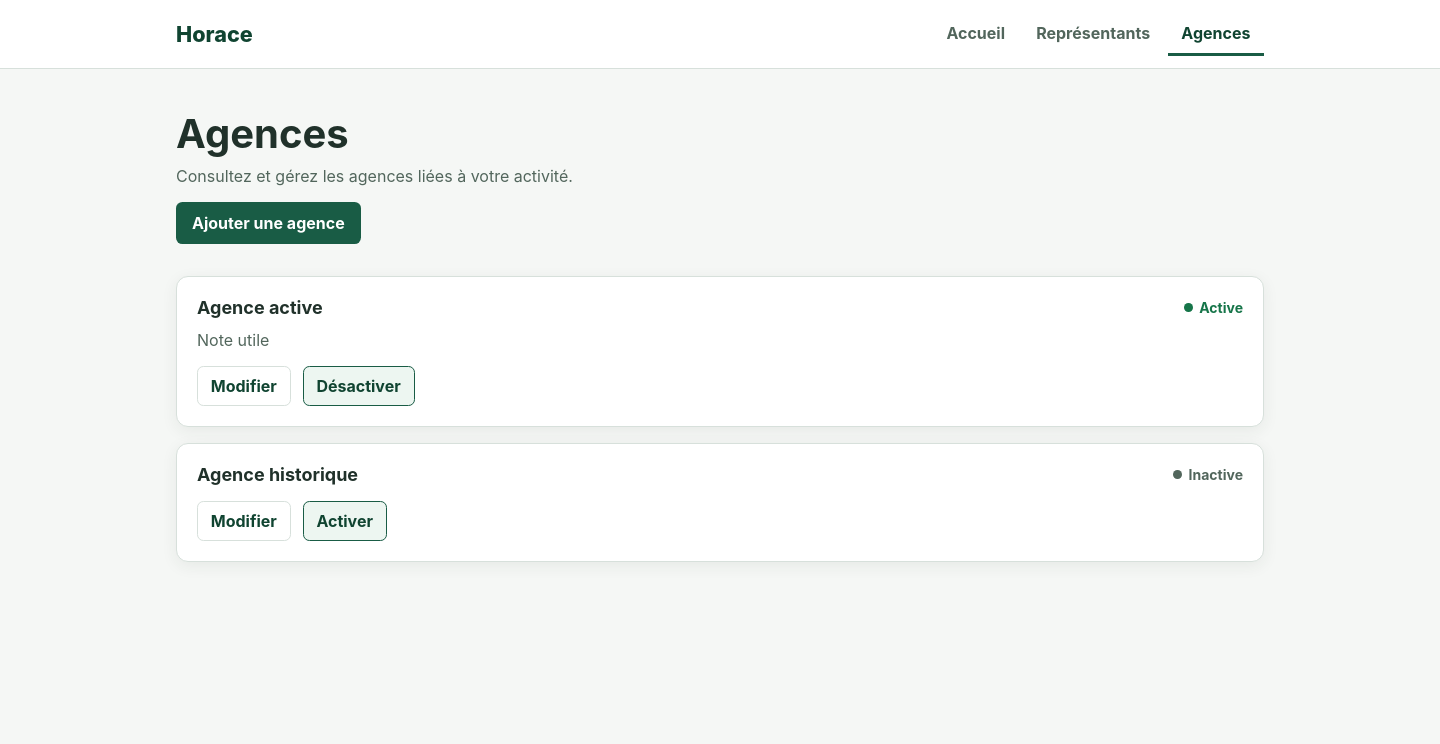
Test: page agences › affiche une erreur métier pendant la modification
This screenshot has width=1440, height=744.
Expected: the heading "Agence active" is shown, top-left (197, 297), bottom-right (323, 318)
Click the button "Modifier" below "Agence active" at (244, 386), box top-left (197, 366), bottom-right (291, 406)
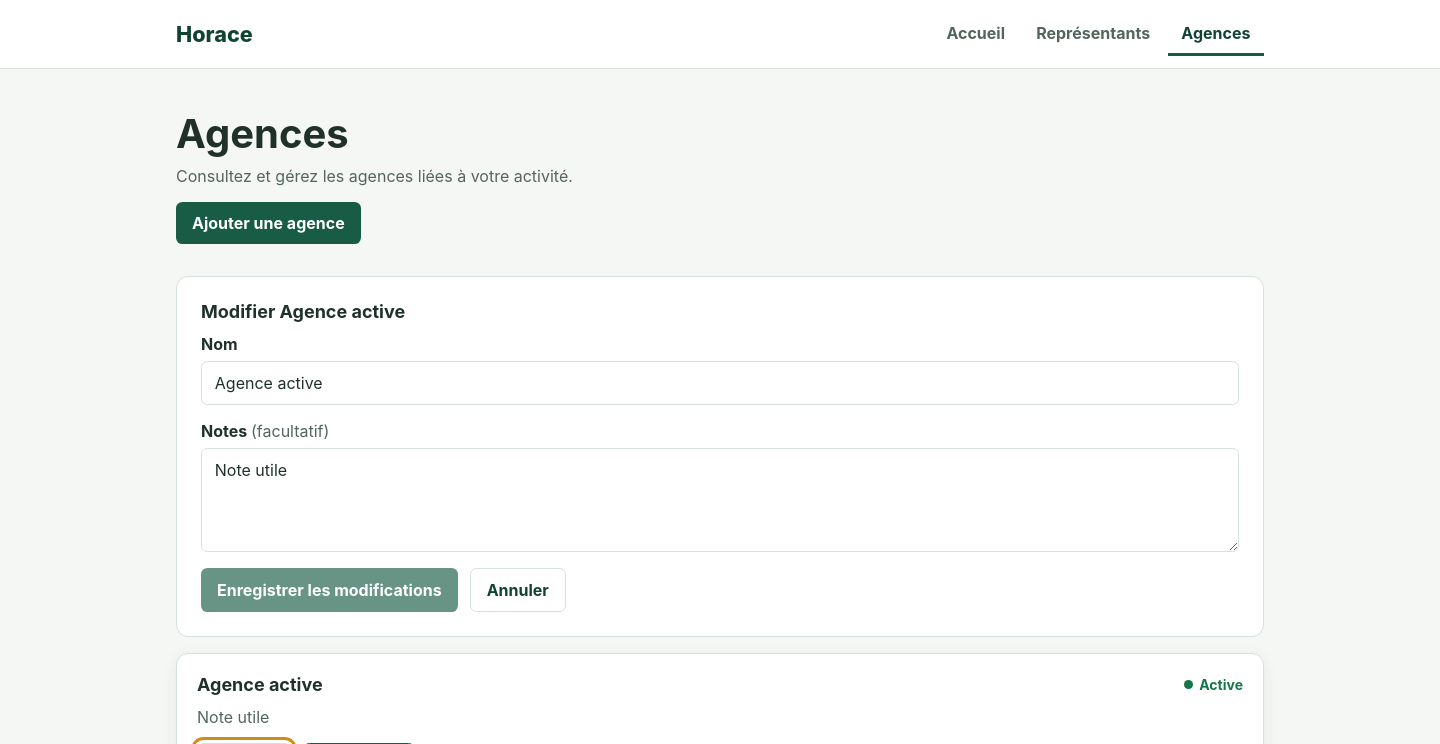
Replace the text in the field labelled "Nom" with "Agence historique" at (720, 383), box top-left (201, 361), bottom-right (1239, 405)
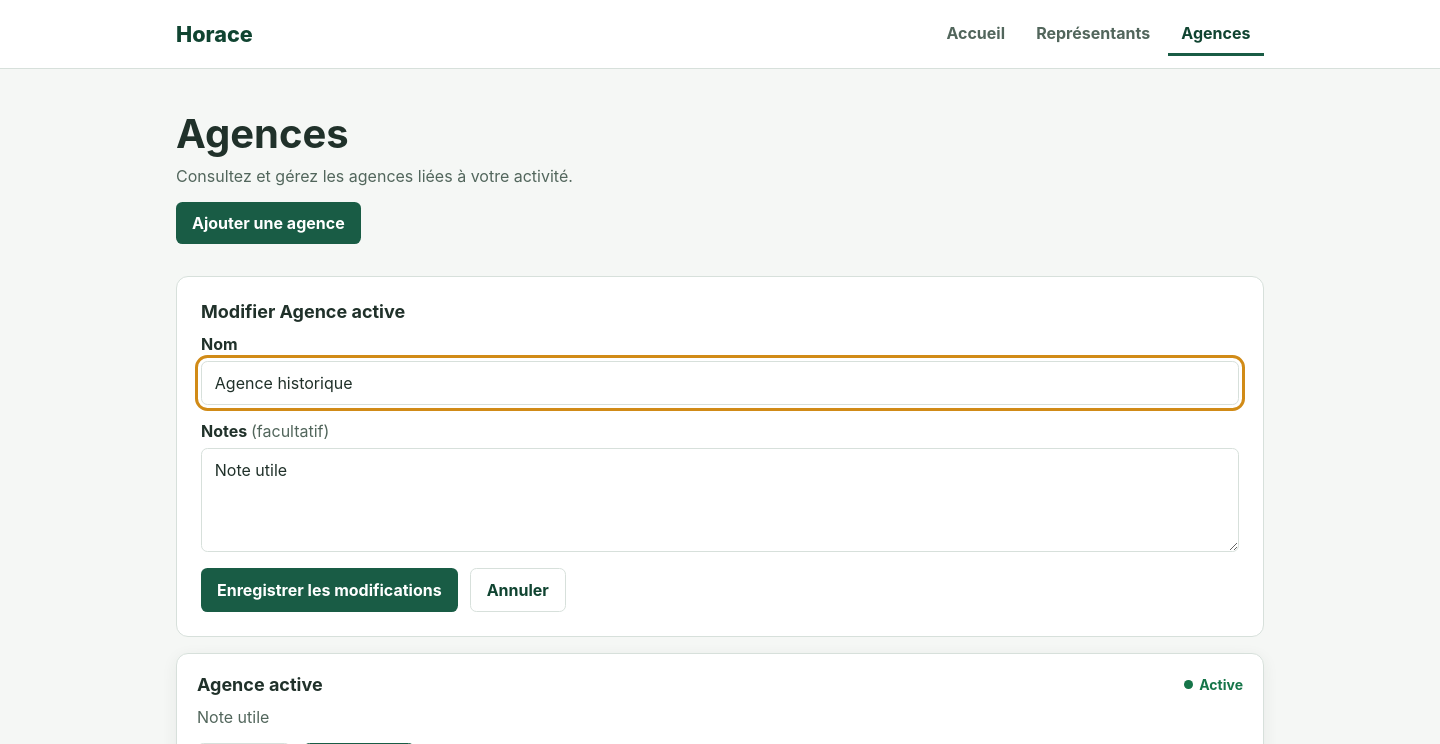
Click the button "Enregistrer les modifications" at (329, 590), box top-left (201, 568), bottom-right (458, 612)
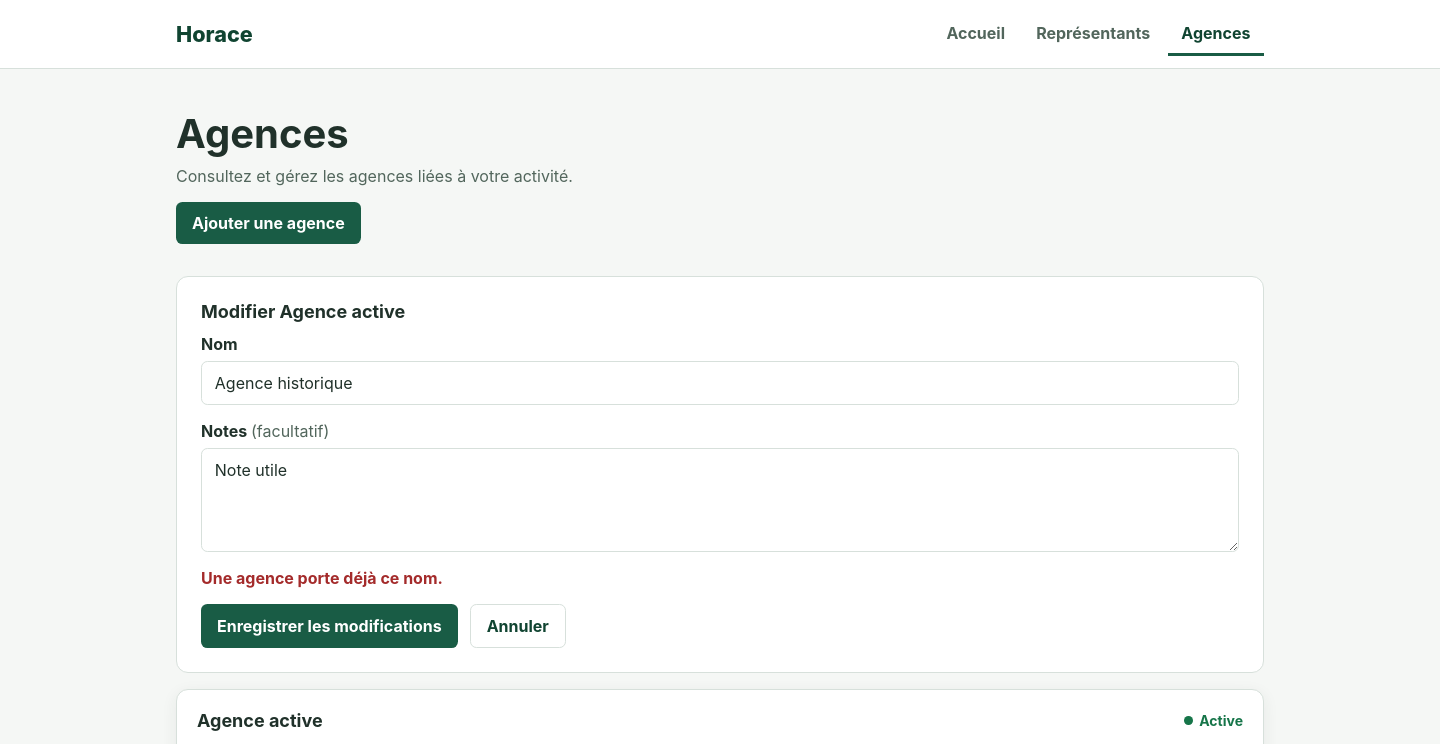
Now the text "Une agence porte déjà ce nom." is shown, box top-left (201, 568), bottom-right (443, 588)
